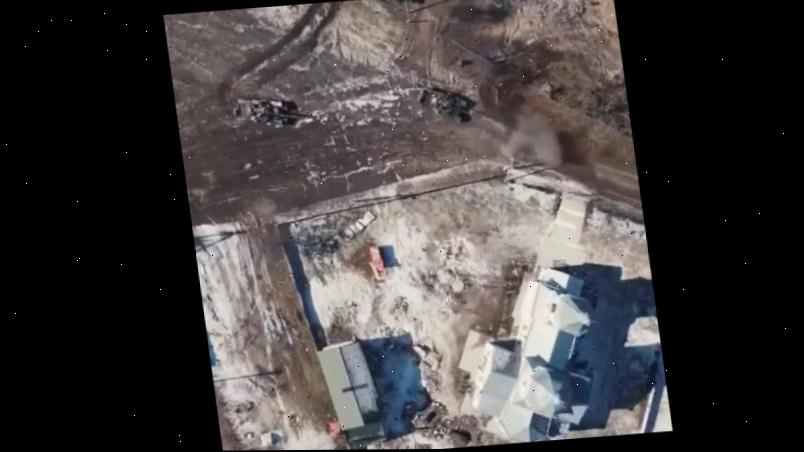tank: (232, 92, 312, 132), (413, 83, 476, 127)
